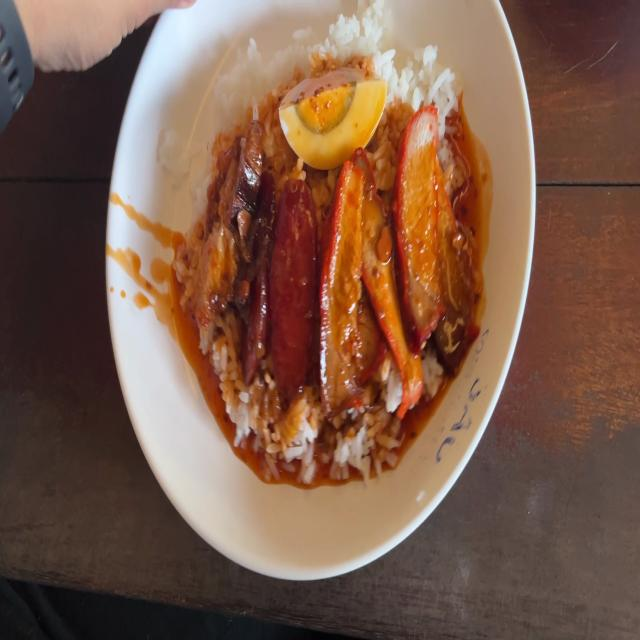01boiled_egg: (285, 63, 389, 159)
01chainese_sausage: (243, 174, 310, 378)
01crispy_pork: (190, 127, 243, 345)
01red_pork: (323, 173, 419, 412), (399, 116, 452, 336)
01red_pork_and_crispy_pork: (198, 37, 481, 456)
01rice: (233, 9, 412, 68), (381, 44, 459, 112), (208, 317, 241, 441)
